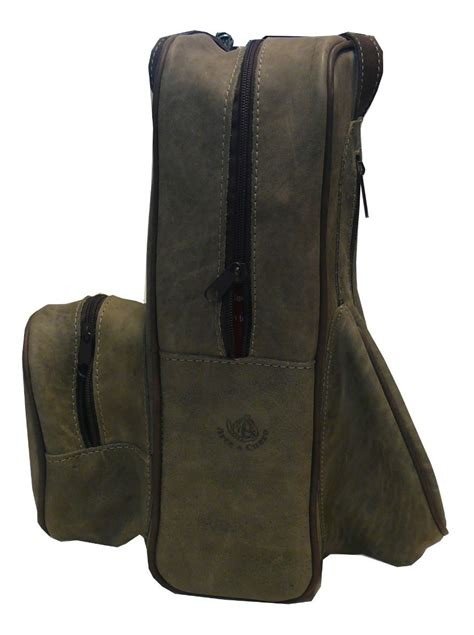cuero: (23, 29, 448, 603)
